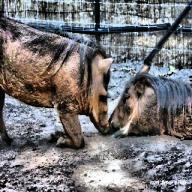boar: (0, 12, 113, 149)
